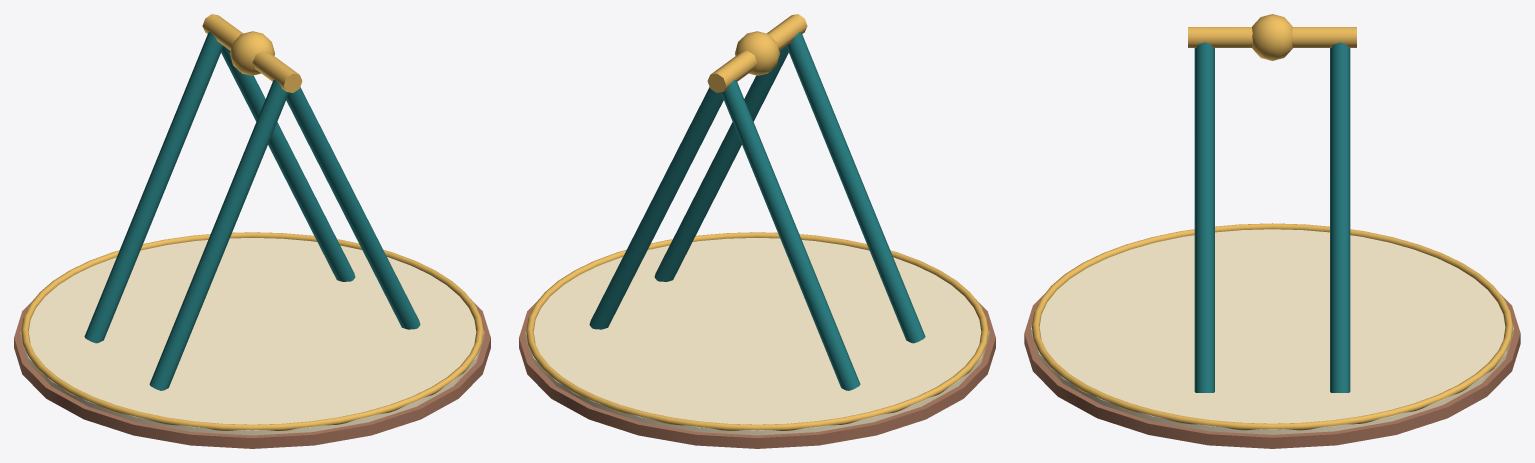
File: ride_ferris.glb
3 views of the same model, side by side, from view 1: azimuth 30°, elevation 25°; view 2: azimuth 150°, elevation 25°; view 3: azimuth 270°, elevation 25° (orthographic). The views are drawn at different scales.
Visible parts, largest first — view 1: ride_ferris; view 2: ride_ferris; view 3: ride_ferris.
Boxes of the visible parts, x1,y1,x2,y2 form: ride_ferris: (14, 14, 490, 448); ride_ferris: (519, 14, 995, 448); ride_ferris: (1024, 14, 1520, 448).
Bounding box in the file's own units: 8.8 × 6.42 × 8.8.
